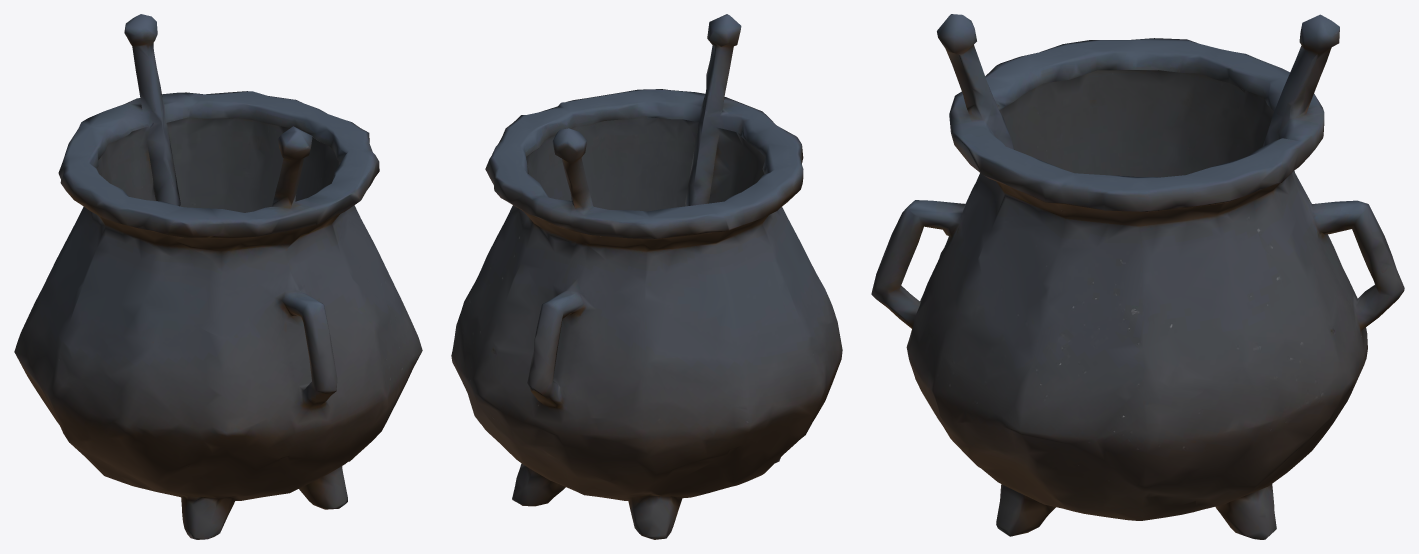
Rendered from cauldron.glb.
3 renders of one model, left to right at view 1: azimuth 30°, elevation 25°; view 2: azimuth 150°, elevation 25°; view 3: azimuth 270°, elevation 25°, orthographic. The views are drawn at different scales.
Parts seen in each view (by area): view 1: tripo_node_d83fa971-4934-4708-a4ff-fe2ed9123f52; view 2: tripo_node_d83fa971-4934-4708-a4ff-fe2ed9123f52; view 3: tripo_node_d83fa971-4934-4708-a4ff-fe2ed9123f52.
Part boxes in pixels (box(x1,y1,x2,y2)): tripo_node_d83fa971-4934-4708-a4ff-fe2ed9123f52: box(14, 14, 422, 539); tripo_node_d83fa971-4934-4708-a4ff-fe2ed9123f52: box(451, 14, 842, 539); tripo_node_d83fa971-4934-4708-a4ff-fe2ed9123f52: box(871, 14, 1404, 539).
Bounding box in the file's own units: 0.8697 × 0.9926 × 1.
Materials: 1 (1 with a texture image).
